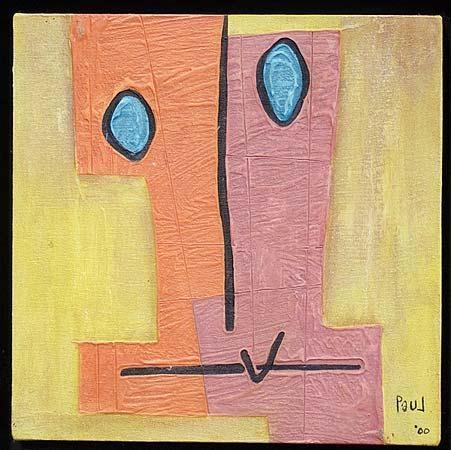person: (61, 21, 380, 433)
